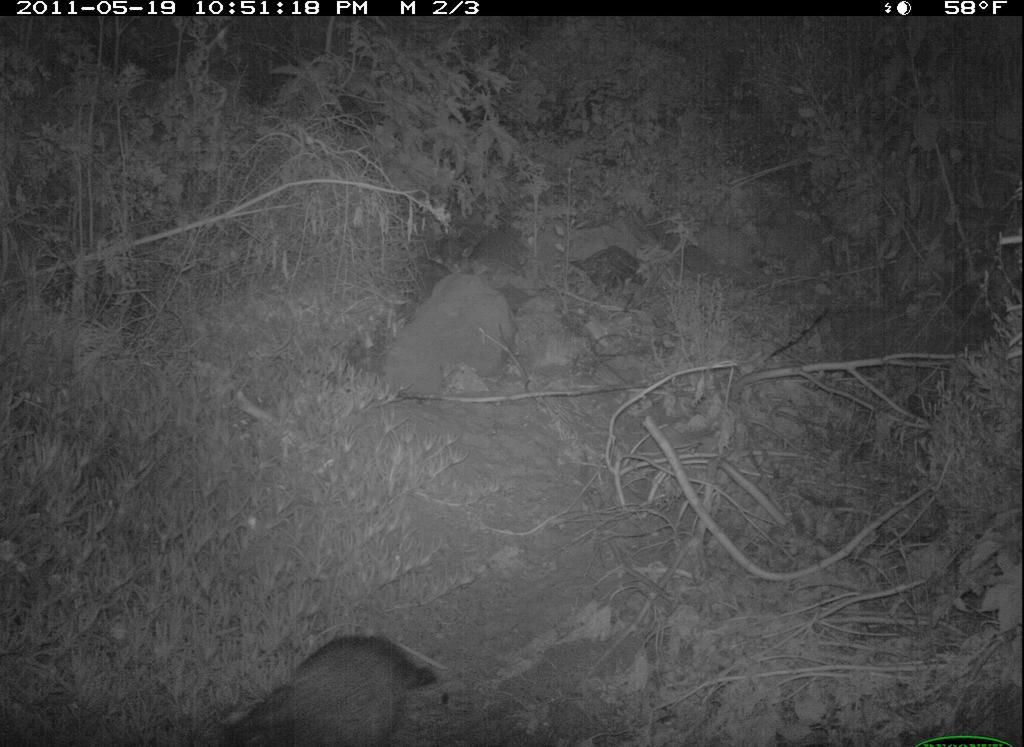raccoon: (216, 613, 468, 747)
